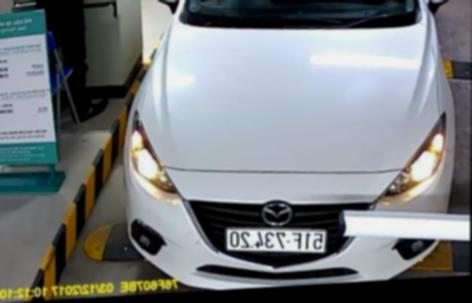License_Plate: (222, 224, 330, 257)
